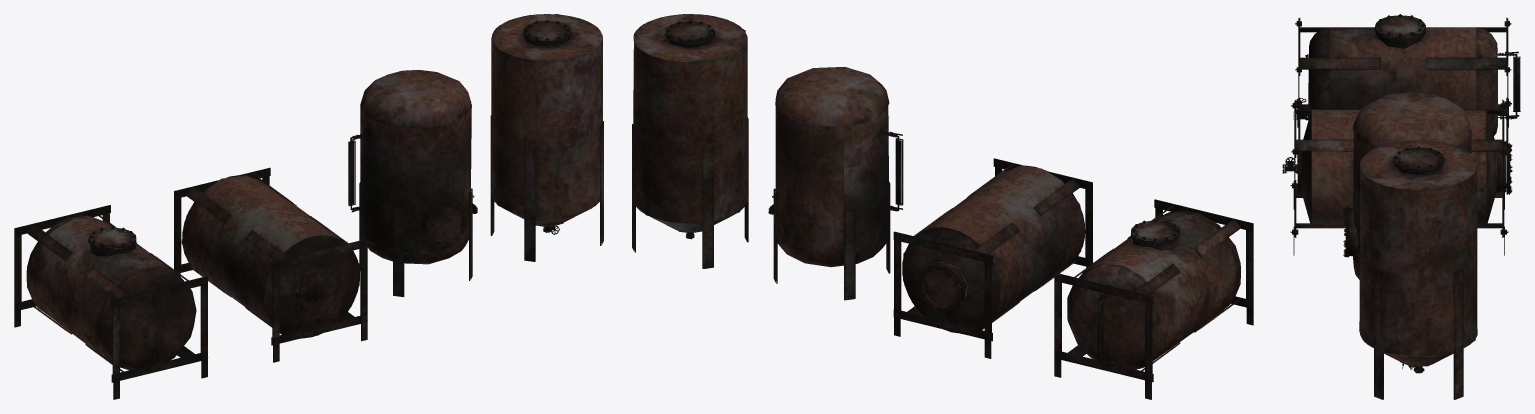
File: distiller.glb
3 views of the same model, side by side, from view 1: azimuth 30°, elevation 25°; view 2: azimuth 150°, elevation 25°; view 3: azimuth 270°, elevation 25° (orthographic). The views are drawn at different scales.
Visible parts, largest first — view 1: Distiller; view 2: Distiller; view 3: Distiller.
Part boxes in pixels (x1,y1,x2,y2): Distiller: [14, 14, 603, 399]; Distiller: [632, 14, 1253, 399]; Distiller: [1282, 14, 1520, 399].
Size of the model in its own units: 3.38 by 1.25 by 1.21.
Materials: 1 (1 with a texture image).
